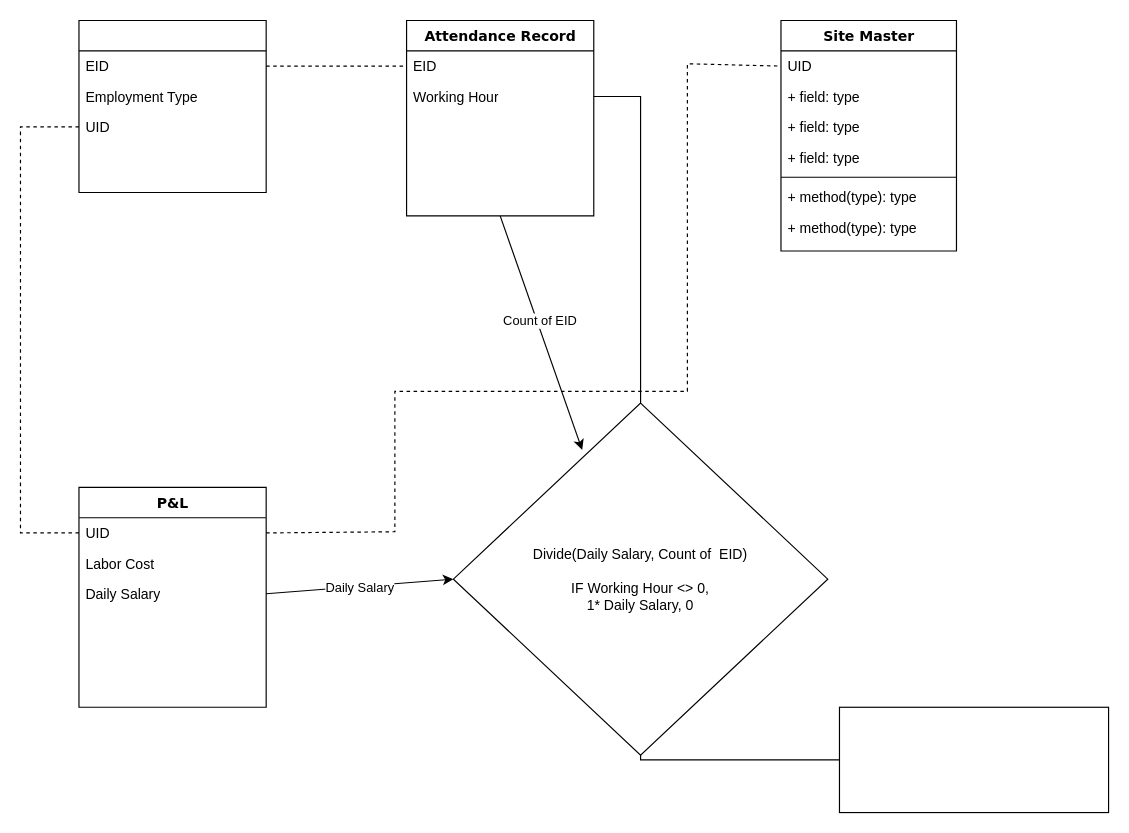
Image size: 1129x833. Some labels were removed from this diagram. The box of each missing label's shape, as (x1, y1, x2, y2) in pixels:
Emplyoee Master: (78, 19, 266, 192)
Labor Cost / FT: (838, 706, 1109, 813)
